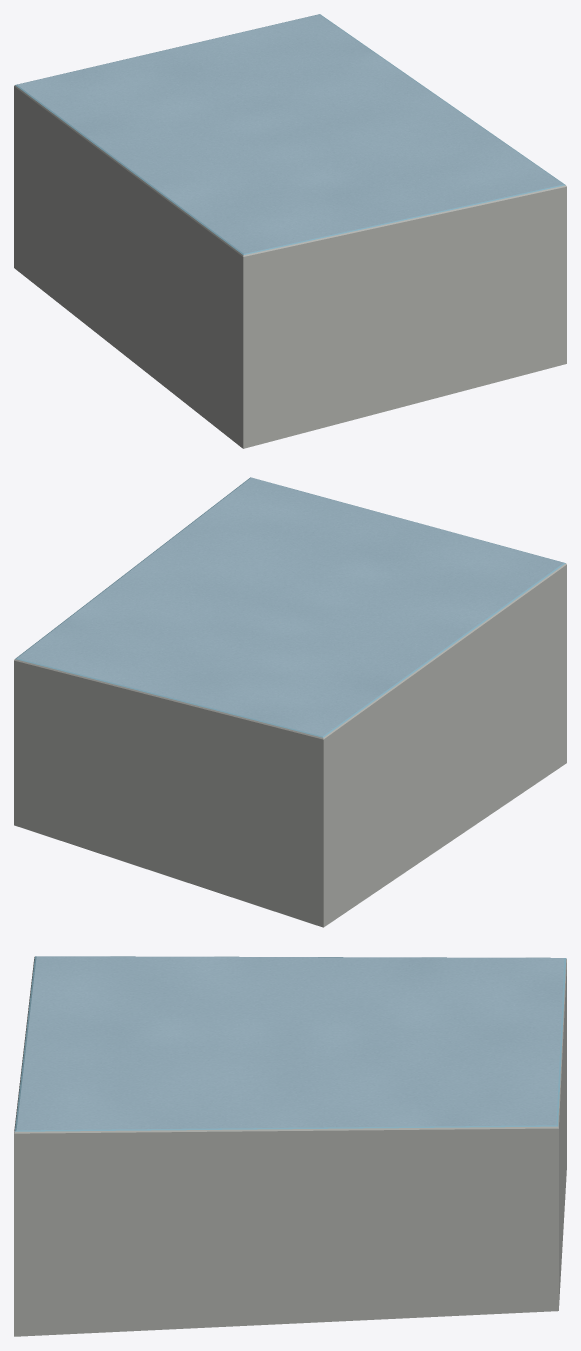
Rendered from fragments.glb.
3 renders of one model, top to bottom at view 1: azimuth 30°, elevation 25°; view 2: azimuth 150°, elevation 25°; view 3: azimuth 270°, elevation 25°, orthographic. The views are drawn at different scales.
Parts seen in each view (by area): view 1: SM_rock-store_Fragment_007, SM_rock-store_Fragment_025, SM_rock-store_Fragment_040, SM_rock-store_Fragment_054, SM_rock-store_Fragment_034, SM_rock-store_Fragment_000, SM_rock-store_Fragment_019, SM_rock-store_Fragment_003, SM_rock-store_Fragment_015, SM_rock-store_Fragment_042, SM_rock-store_Fragment_018, SM_rock-store_Fragment_049 (+23 smaller); view 2: SM_rock-store_Fragment_005, SM_rock-store_Fragment_010, SM_rock-store_Fragment_041, SM_rock-store_Fragment_040, SM_rock-store_Fragment_050, SM_rock-store_Fragment_029, SM_rock-store_Fragment_019, SM_rock-store_Fragment_001, SM_rock-store_Fragment_015, SM_rock-store_Fragment_018, SM_rock-store_Fragment_007, SM_rock-store_Fragment_009 (+22 smaller); view 3: SM_rock-store_Fragment_002, SM_rock-store_Fragment_009, SM_rock-store_Fragment_043, SM_rock-store_Fragment_014, SM_rock-store_Fragment_048, SM_rock-store_Fragment_032, SM_rock-store_Fragment_008, SM_rock-store_Fragment_060, SM_rock-store_Fragment_034, SM_rock-store_Fragment_013, SM_rock-store_Fragment_004, SM_rock-store_Fragment_021 (+19 smaller).
Boxes of the visible parts, box(x1,y1,x2,y2) form: SM_rock-store_Fragment_007: box(205, 226, 315, 397); SM_rock-store_Fragment_025: box(284, 320, 416, 434); SM_rock-store_Fragment_040: box(132, 165, 253, 294); SM_rock-store_Fragment_054: box(313, 229, 406, 351); SM_rock-store_Fragment_034: box(460, 156, 566, 253); SM_rock-store_Fragment_000: box(394, 226, 500, 341); SM_rock-store_Fragment_019: box(82, 164, 151, 315); SM_rock-store_Fragment_003: box(177, 343, 296, 448); SM_rock-store_Fragment_015: box(80, 100, 183, 210); SM_rock-store_Fragment_042: box(460, 283, 555, 382); SM_rock-store_Fragment_018: box(40, 208, 113, 342); SM_rock-store_Fragment_049: box(339, 201, 461, 276); SM_rock-store_Fragment_005: box(106, 661, 233, 787); SM_rock-store_Fragment_010: box(224, 695, 344, 794); SM_rock-store_Fragment_041: box(65, 762, 178, 869); SM_rock-store_Fragment_040: box(424, 577, 537, 678); SM_rock-store_Fragment_050: box(260, 764, 368, 880); SM_rock-store_Fragment_029: box(50, 643, 162, 766); SM_rock-store_Fragment_019: box(396, 643, 464, 824); SM_rock-store_Fragment_001: box(230, 843, 361, 927); SM_rock-store_Fragment_015: box(293, 639, 437, 762); SM_rock-store_Fragment_018: box(352, 766, 428, 901); SM_rock-store_Fragment_007: box(498, 545, 566, 709); SM_rock-store_Fragment_009: box(147, 507, 283, 571); SM_rock-store_Fragment_002: box(251, 1086, 425, 1216); SM_rock-store_Fragment_009: box(103, 1074, 265, 1199); SM_rock-store_Fragment_043: box(141, 1148, 297, 1271); SM_rock-store_Fragment_014: box(14, 1219, 163, 1336); SM_rock-store_Fragment_048: box(384, 1082, 498, 1233); SM_rock-store_Fragment_032: box(148, 1257, 306, 1330); SM_rock-store_Fragment_008: box(473, 1098, 560, 1224); SM_rock-store_Fragment_060: box(377, 1232, 491, 1319); SM_rock-store_Fragment_034: box(14, 1075, 106, 1178); SM_rock-store_Fragment_013: box(337, 1025, 482, 1089); SM_rock-store_Fragment_004: box(174, 969, 315, 1038); SM_rock-store_Fragment_021: box(30, 972, 178, 1037).
Size of the model in its own units: 1.66 by 0.9757 by 2.2.
Materials: 4 (1 with a texture image).
